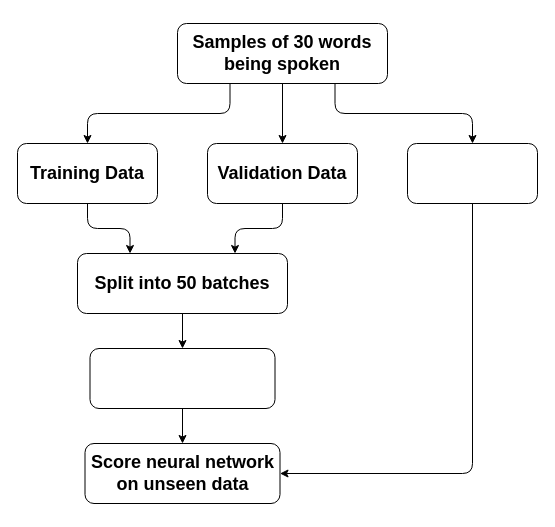
Some shapes in this 555 by 527 pixel diagram are drawn without their labels. The box of each missing label's shape, as (x1, y1, x2, y2) in pixels:
Testing Data: (406, 142, 538, 204)
Train neural network on each batch: (89, 348, 275, 408)
